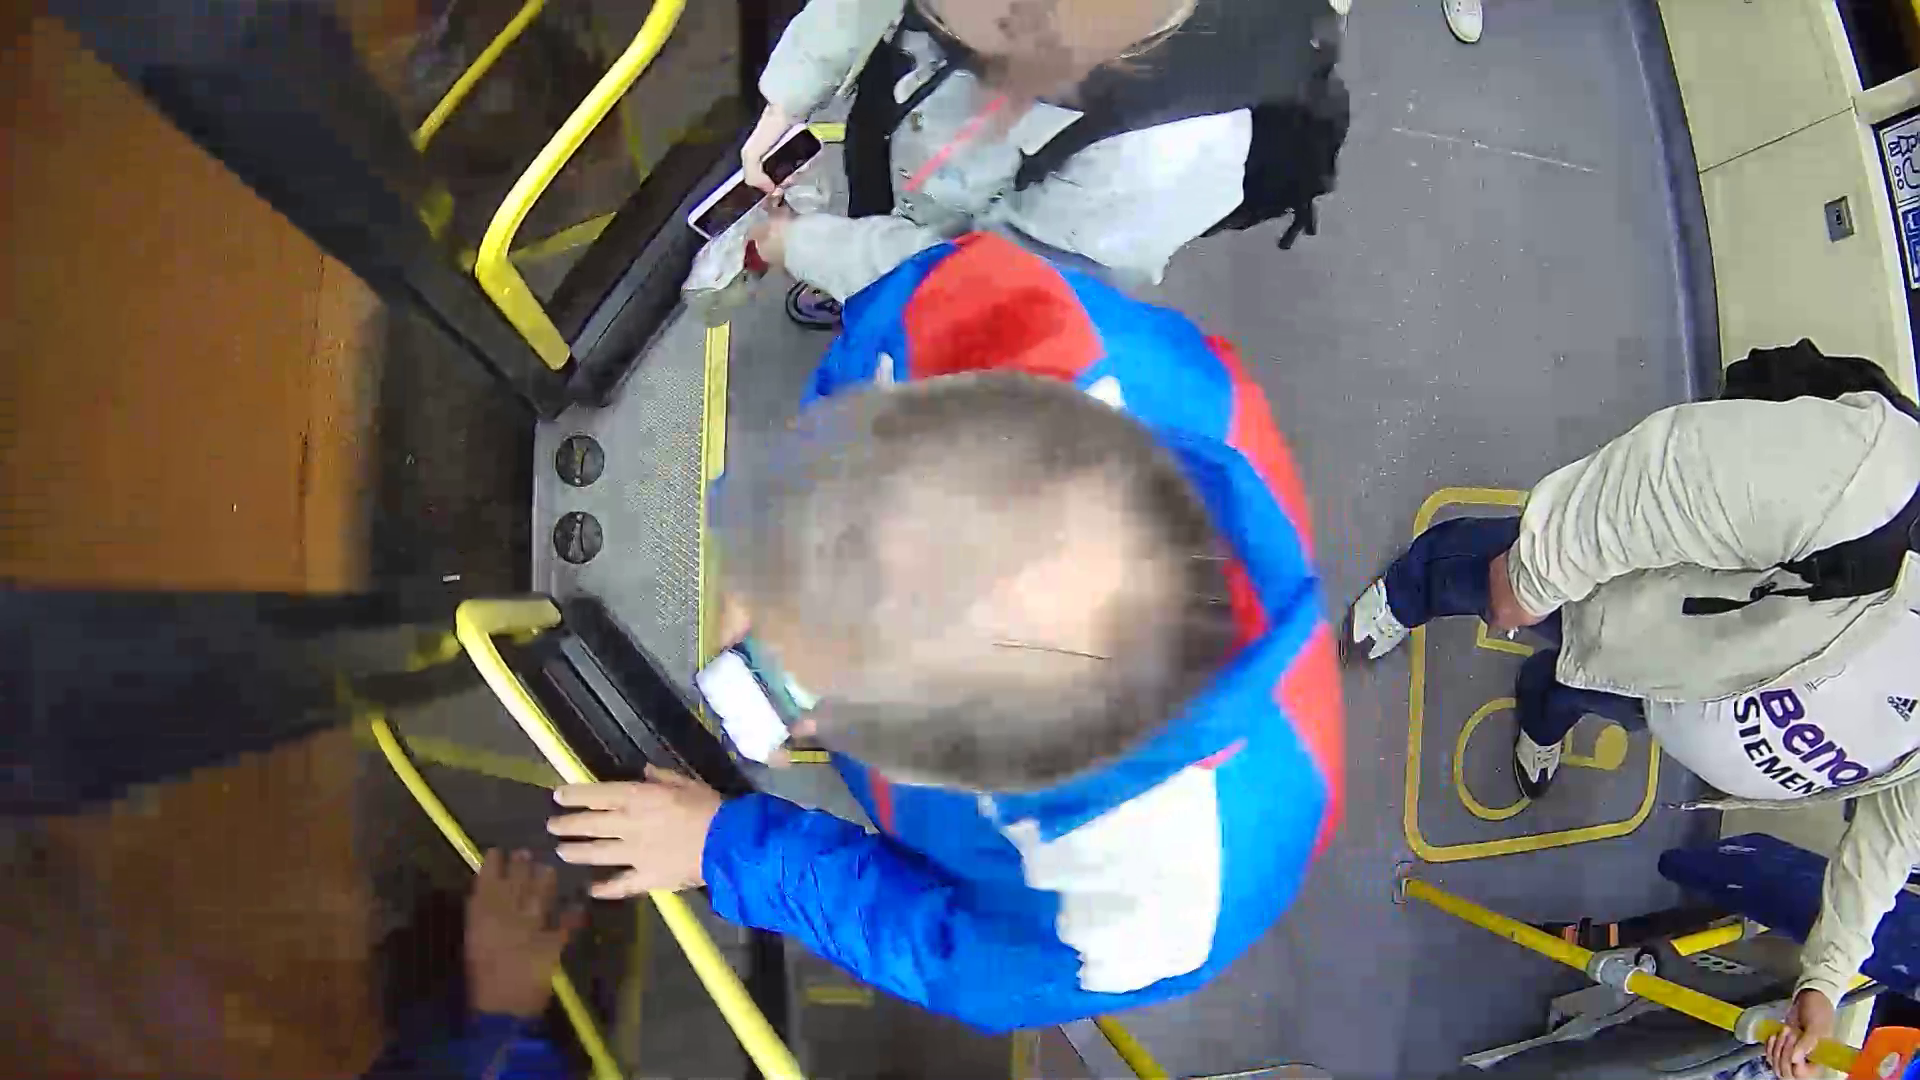person: (597, 233, 1418, 995)
